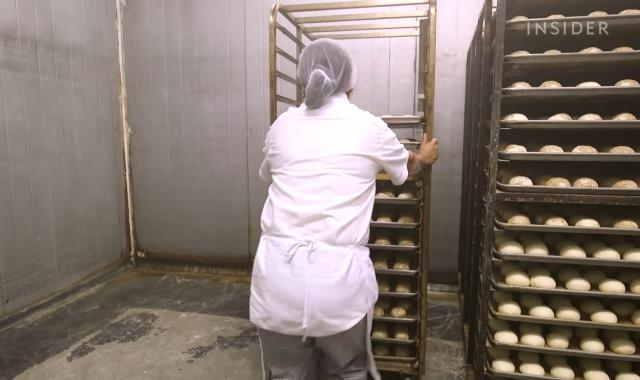hairnet: (296, 39, 357, 107)
